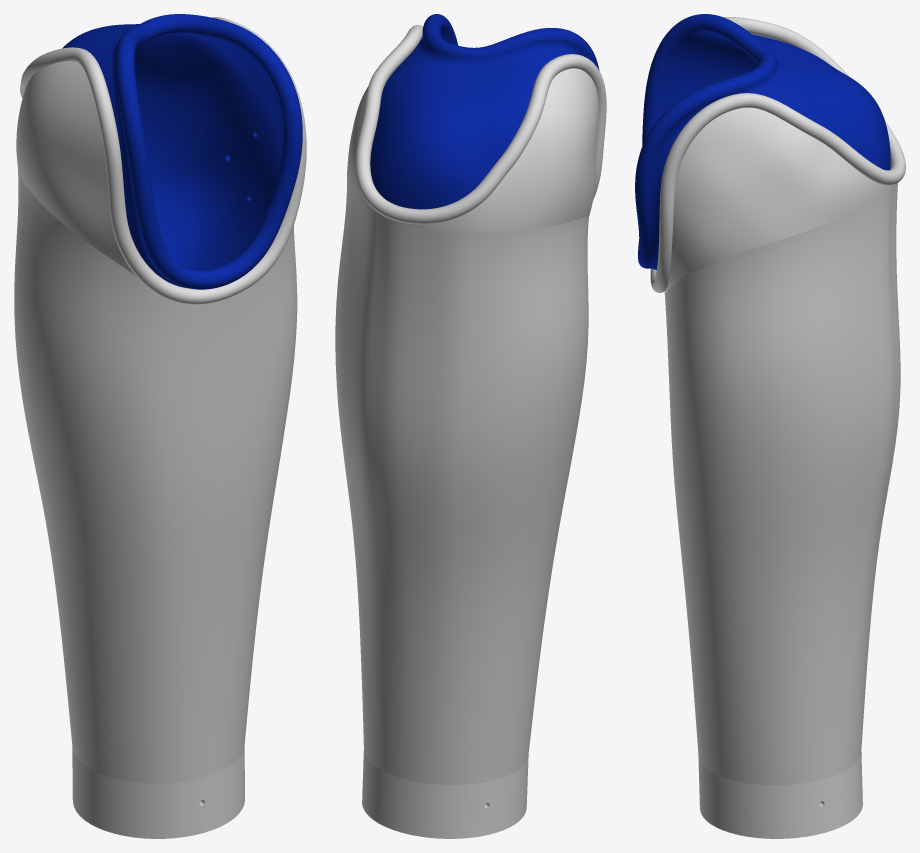
File: WOCAP.glb
3 renders of one model, left to right at view 1: azimuth 30°, elevation 25°; view 2: azimuth 150°, elevation 25°; view 3: azimuth 270°, elevation 25°, orthographic. The views are drawn at different scales.
Parts seen in each view (by area): view 1: 2.2, 2.1; view 2: 2.2, 2.1; view 3: 2.2, 2.1.
Part boxes in pixels (left/top/right/bottom): 2.2: left=14, top=17, right=306, bottom=838; 2.1: left=62, top=14, right=302, bottom=289; 2.2: left=335, top=25, right=606, bottom=838; 2.1: left=370, top=14, right=599, bottom=209; 2.2: left=650, top=17, right=905, bottom=838; 2.1: left=635, top=14, right=890, bottom=270.
Bounding box in the file's own units: 90.83 × 285 × 91.99.
